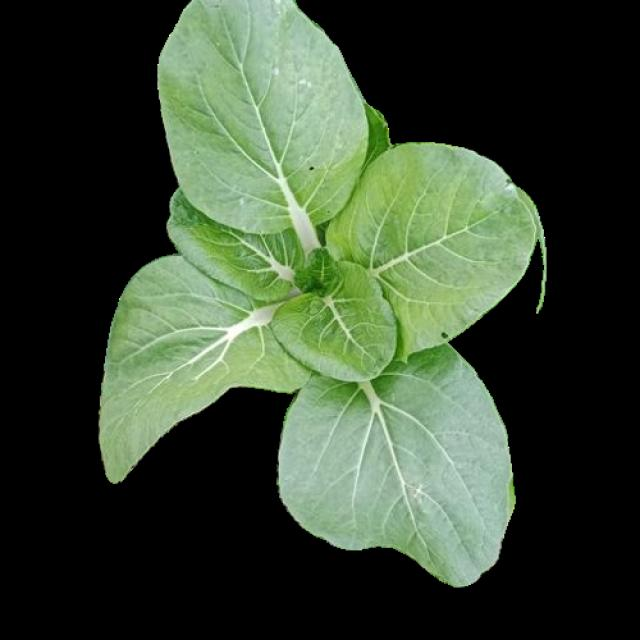mature: (97, 2, 535, 584)
unhealthy: (158, 2, 372, 230), (324, 144, 536, 358)
